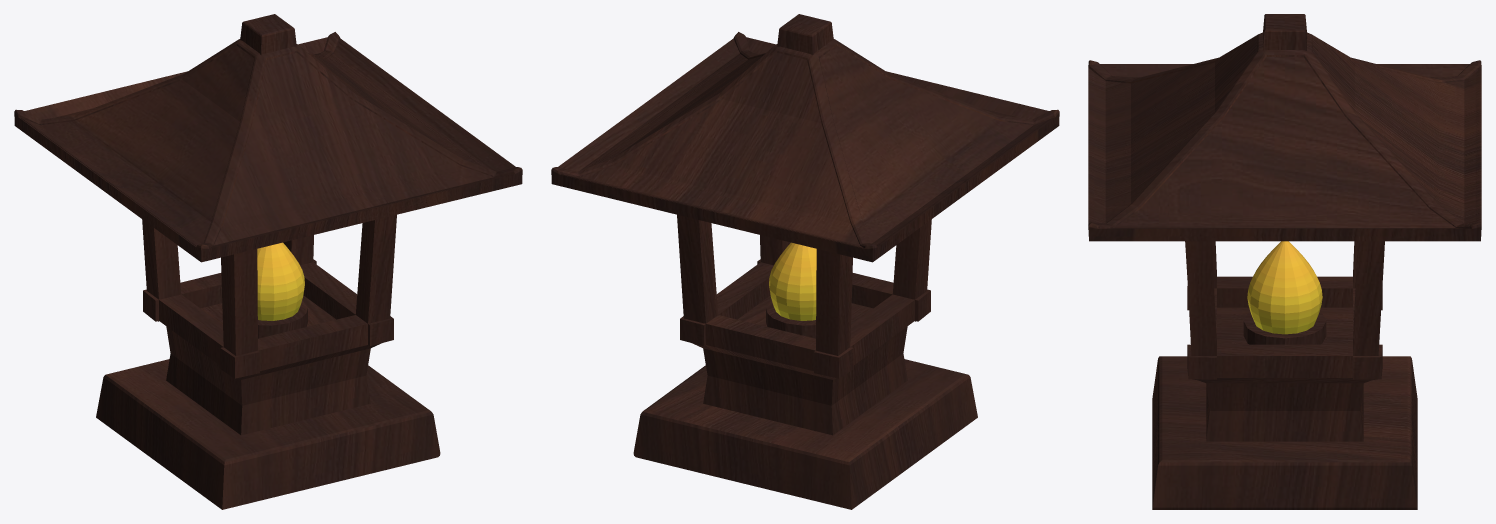
Rendered from Farol.fbx.
3 views of the same model, side by side, from view 1: azimuth 30°, elevation 25°; view 2: azimuth 150°, elevation 25°; view 3: azimuth 270°, elevation 25° (orthographic). The views are drawn at different scales.
Parts seen in each view (by area): view 1: Cube.008, OuterFlame.009; view 2: Cube.008, OuterFlame.009; view 3: Cube.008, OuterFlame.009.
Boxes of the visible parts, x1,y1,x2,y2 form: Cube.008: (14,14,522,509); OuterFlame.009: (257,242,304,320); Cube.008: (551,14,1059,509); OuterFlame.009: (769,242,816,320); Cube.008: (1088,14,1481,509); OuterFlame.009: (1247,241,1322,334).
Bounding box in the file's own units: 185 × 226 × 186.
3 materials, 3 textured.
